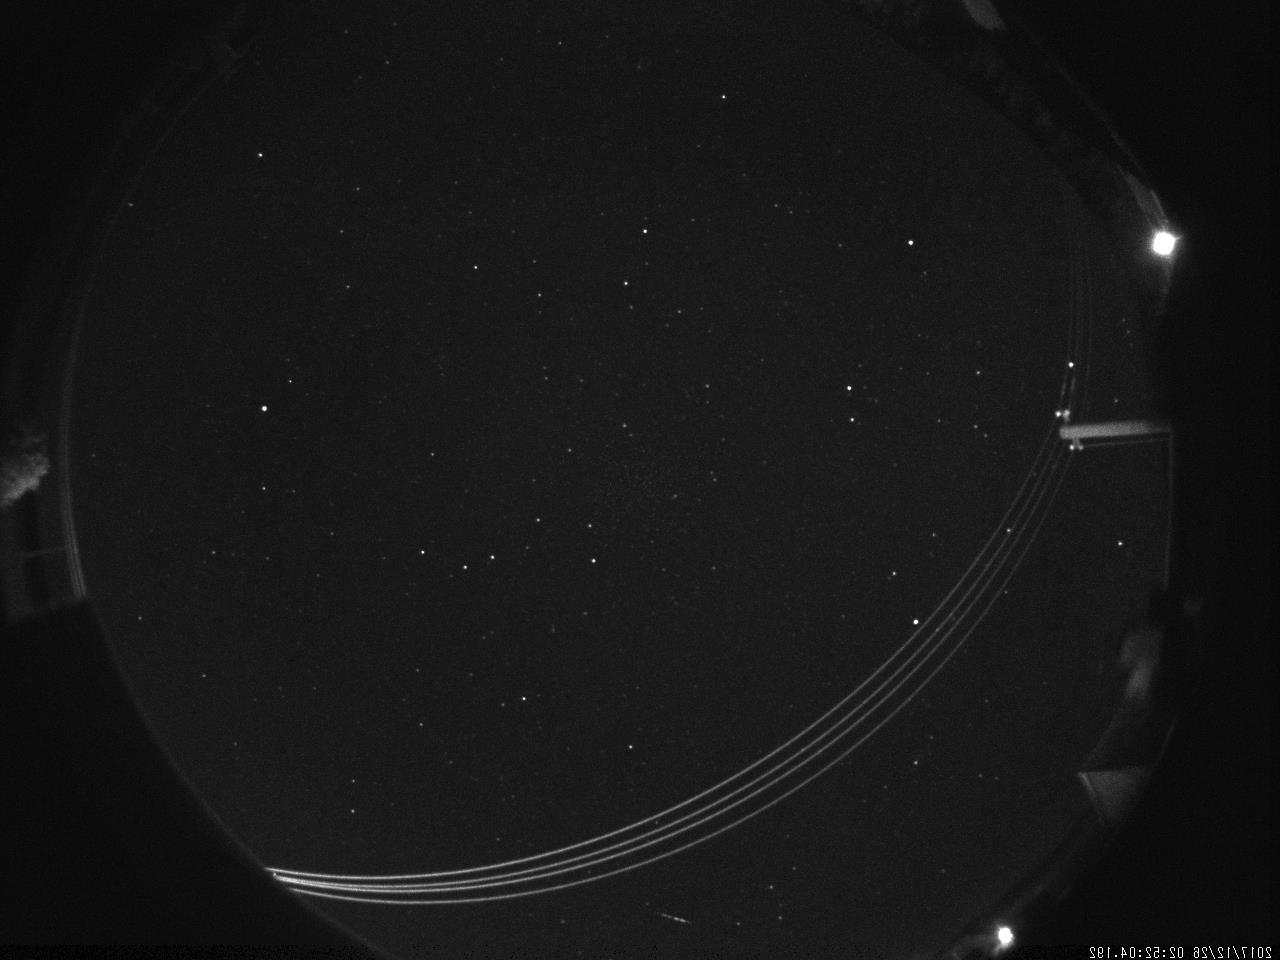meteor: (640, 907, 695, 928)
